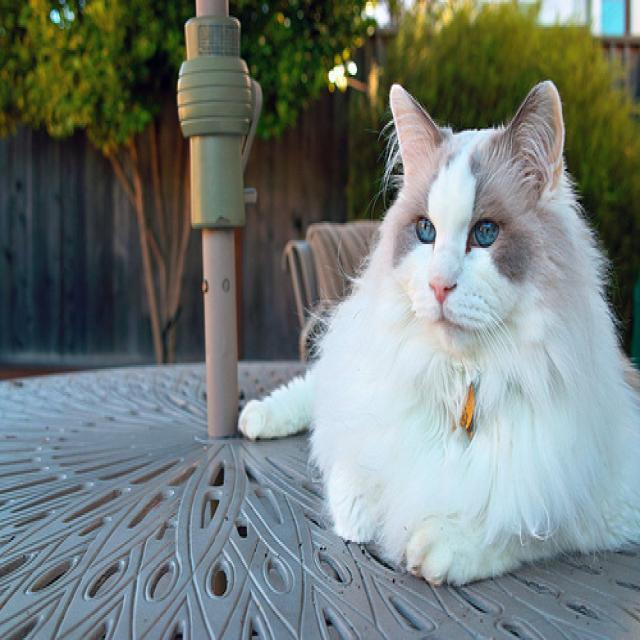cat: (386, 79, 562, 350)
